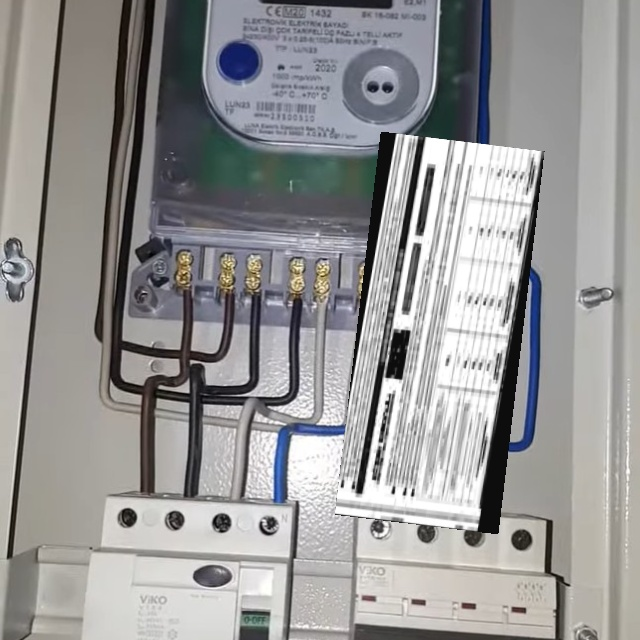electricity-bill: (335, 131, 545, 533)
